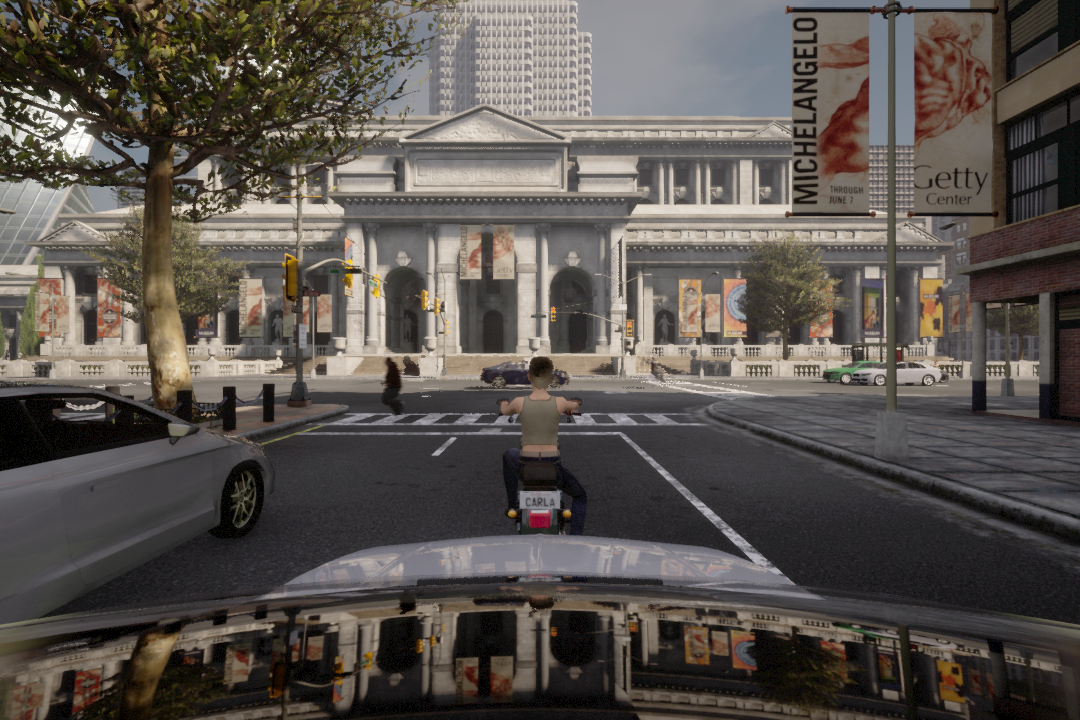walkside: (299, 404, 714, 428)
